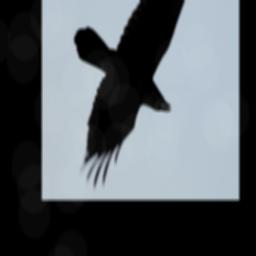Crow: (73, 0, 196, 192)
